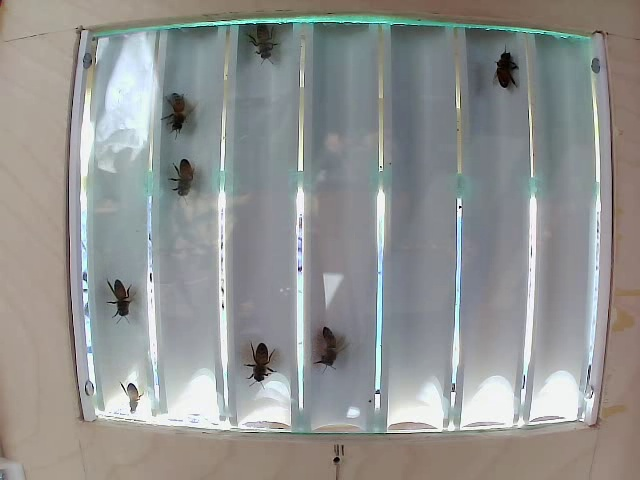bee: (491, 28, 527, 98), (160, 159, 215, 203), (307, 309, 347, 367), (97, 272, 140, 321), (235, 335, 273, 380), (159, 94, 199, 136), (260, 28, 301, 68)
